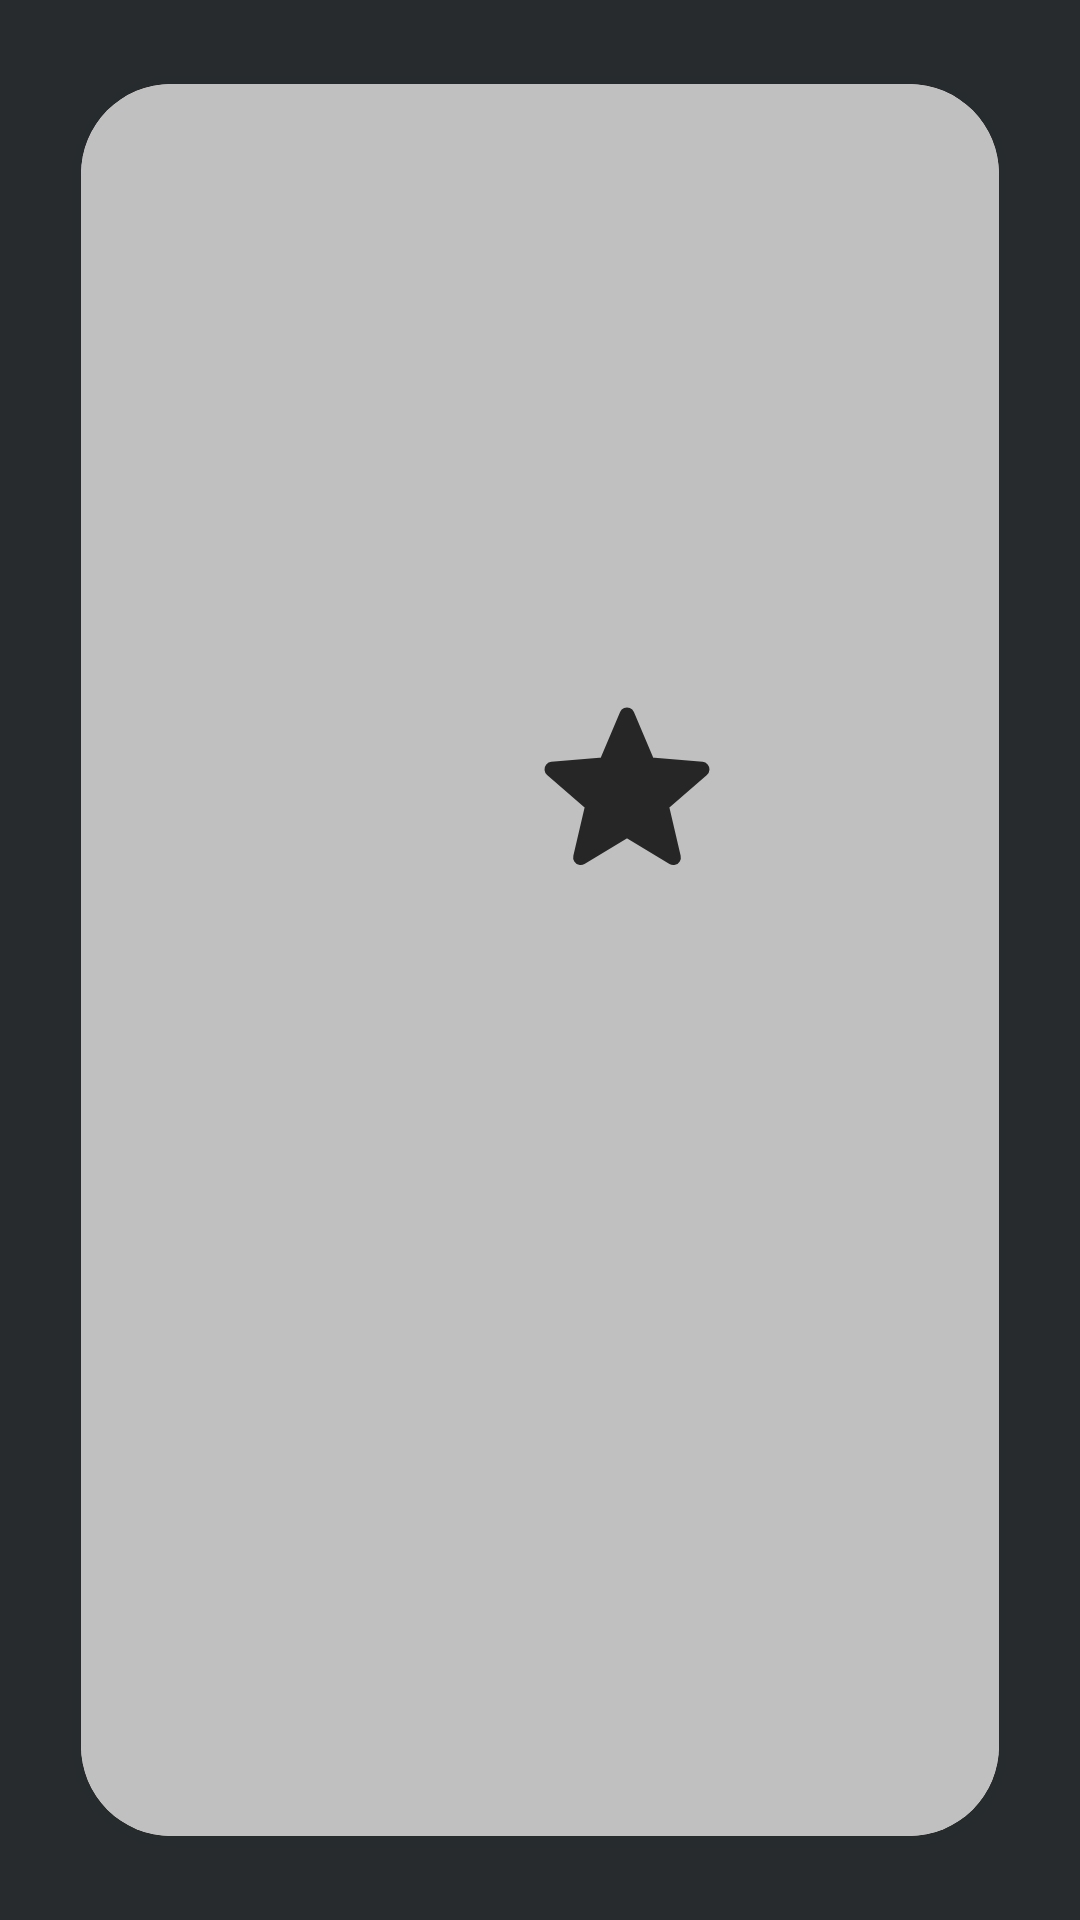

Screen size 1080x1920. Icon name, then its center in pixels as point (x, y):
star: point (627, 786)
